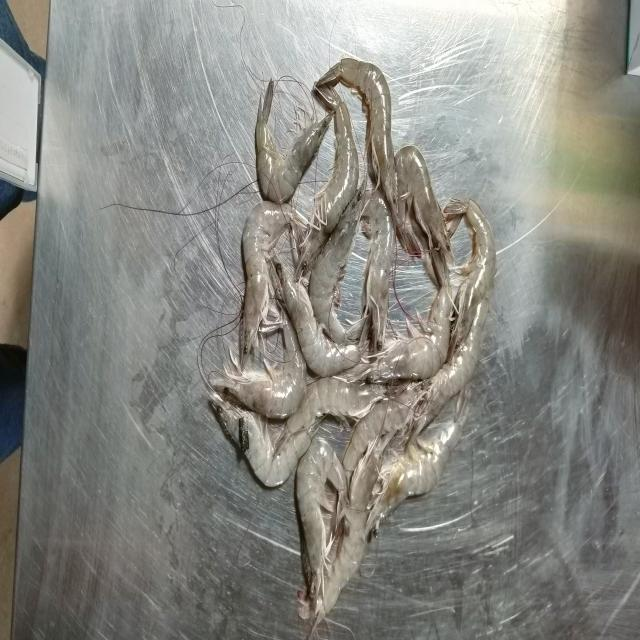shrimp: (316, 58, 414, 252), (366, 385, 470, 536), (319, 434, 390, 618), (296, 86, 359, 277), (410, 297, 489, 443), (240, 201, 306, 367), (350, 279, 452, 383), (275, 261, 361, 376), (211, 314, 306, 418), (255, 80, 331, 204), (309, 179, 366, 343), (296, 436, 348, 615), (211, 394, 311, 487), (444, 199, 496, 363), (395, 146, 452, 288), (286, 376, 386, 434), (342, 398, 410, 483), (360, 188, 395, 352)
